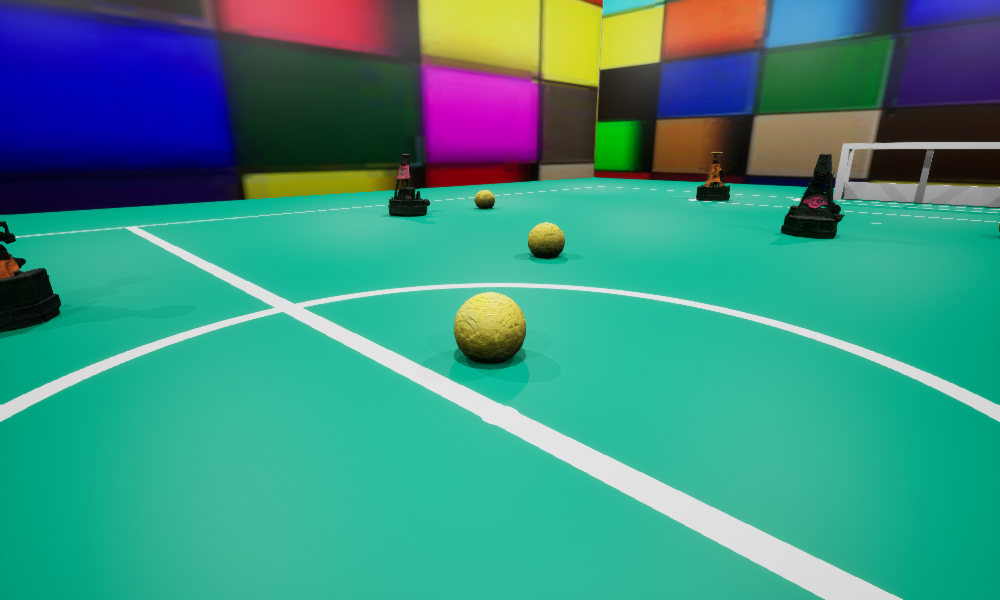b: (454, 292, 525, 362), (528, 222, 564, 257), (474, 190, 494, 208)
o: (0, 221, 60, 332), (696, 152, 729, 200)
p1: (781, 154, 844, 238)
p2: (388, 154, 429, 216)
